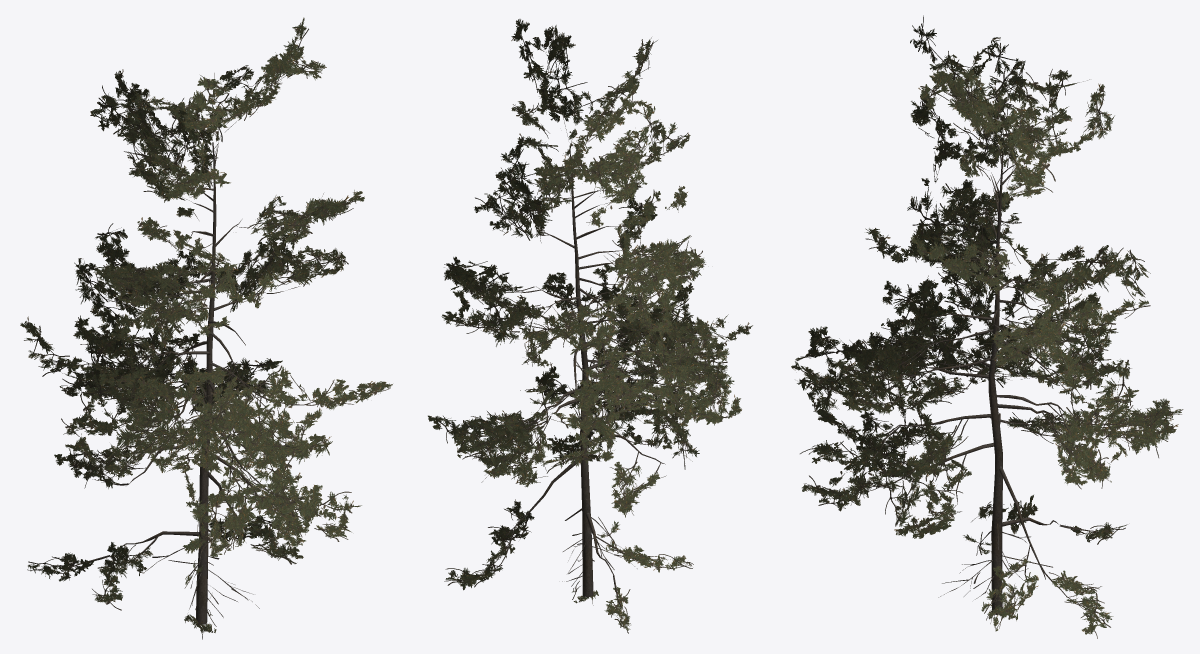
3 renders of one model, left to right at view 1: azimuth 30°, elevation 25°; view 2: azimuth 150°, elevation 25°; view 3: azimuth 270°, elevation 25°, orthographic. The views are drawn at different scales.
Visible parts, largest first — view 1: pine_sapling_medium__b_lod1; view 2: pine_sapling_medium__b_lod1; view 3: pine_sapling_medium__b_lod1.
Part boxes in pixels (x1,y1,x2,y2): pine_sapling_medium__b_lod1: (20,17,392,639); pine_sapling_medium__b_lod1: (428,19,752,633); pine_sapling_medium__b_lod1: (791,15,1183,638).
Size of the model in its own units: 4.78 by 9.21 by 5.5.
2 materials, 2 textured.
